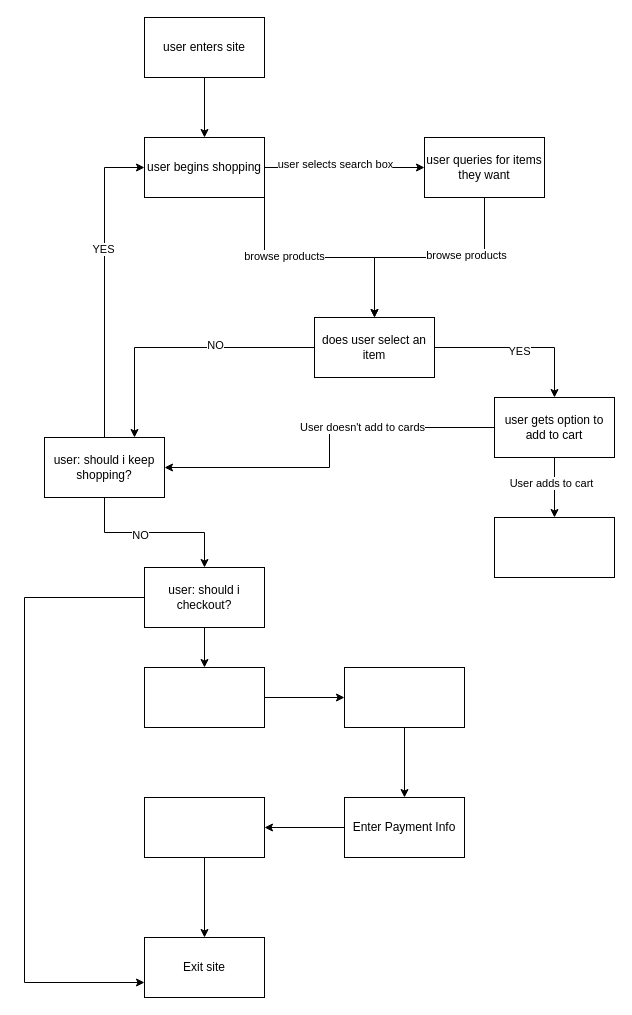
Image size: 632x1015. Some labels were removed from this diagram. Each missing label, with the centre of its shape:
Add to cart confirmation received by user: point 554,547
user gets order confirmation and email: point 204,827
View Cart: point 204,697
View Payment: point 404,697
